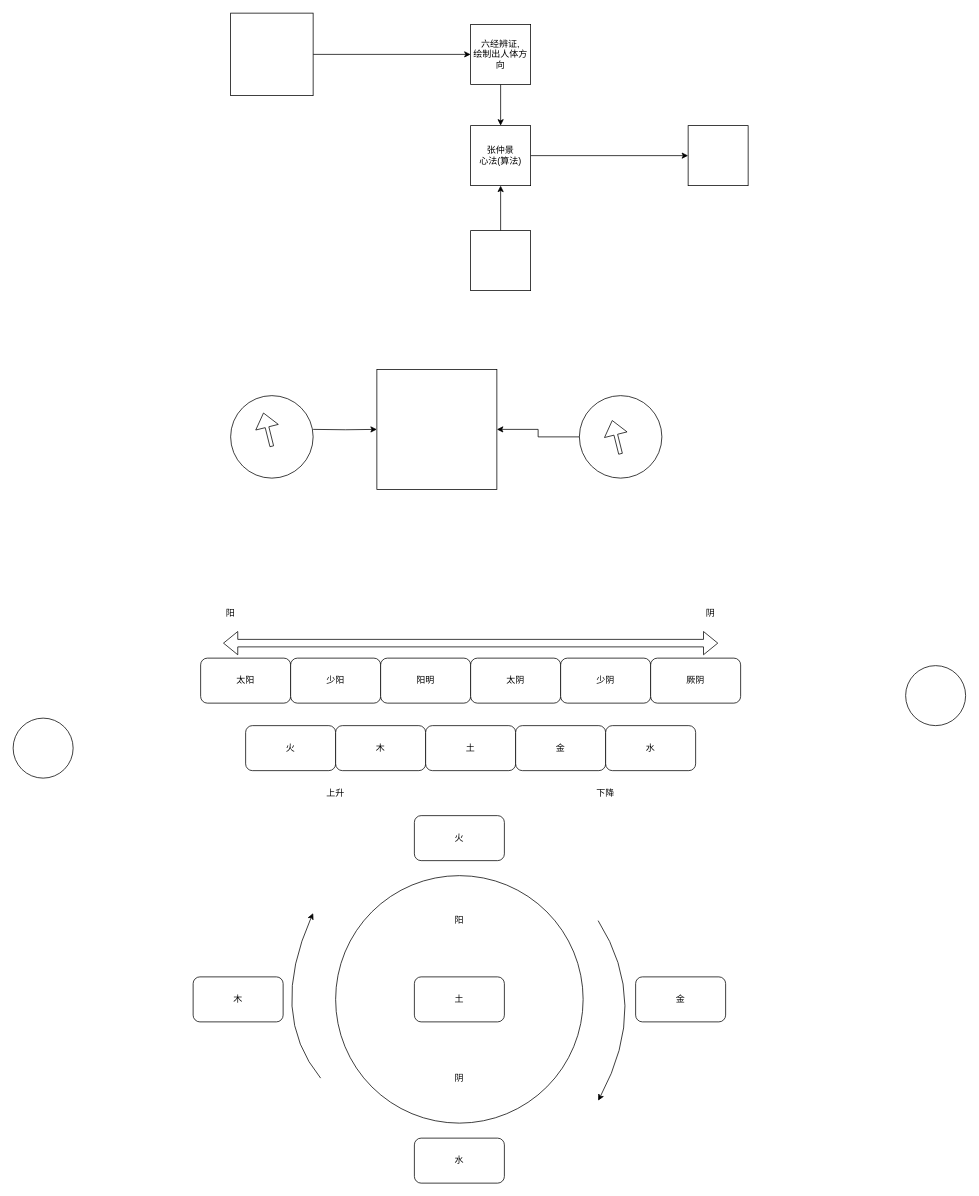
This 979x1196 diagram has some shape labels left out. The shapes that lost their labels are listed below. From the top down, each one's centre as x and y in pixels, then its label:
the point at 271,54: 体证,脉证
the point at 717,155: 出经方
the point at 500,260: 药物配伍的方向
the point at 436,429: 核心算法通过画出 所有方剂的五行图 以及对应所有症状的 方向图,也许可以破解出来
